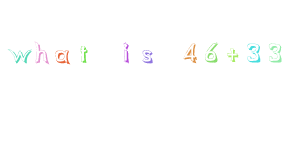+: (225, 45, 242, 69)
3: (265, 40, 286, 68), (245, 41, 261, 67)
4: (178, 40, 200, 69)
6: (202, 39, 222, 70)
a: (52, 47, 73, 68)
h: (33, 41, 52, 67)
i: (114, 41, 134, 66)
s: (137, 42, 157, 68)
t: (74, 43, 96, 65)
w: (8, 42, 31, 66)
